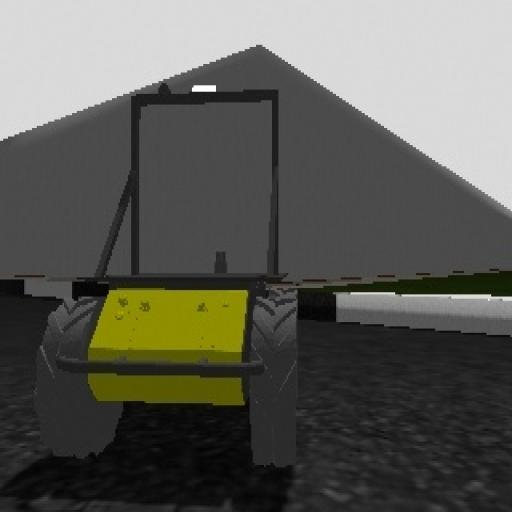huskya200: (47, 74, 303, 493)
